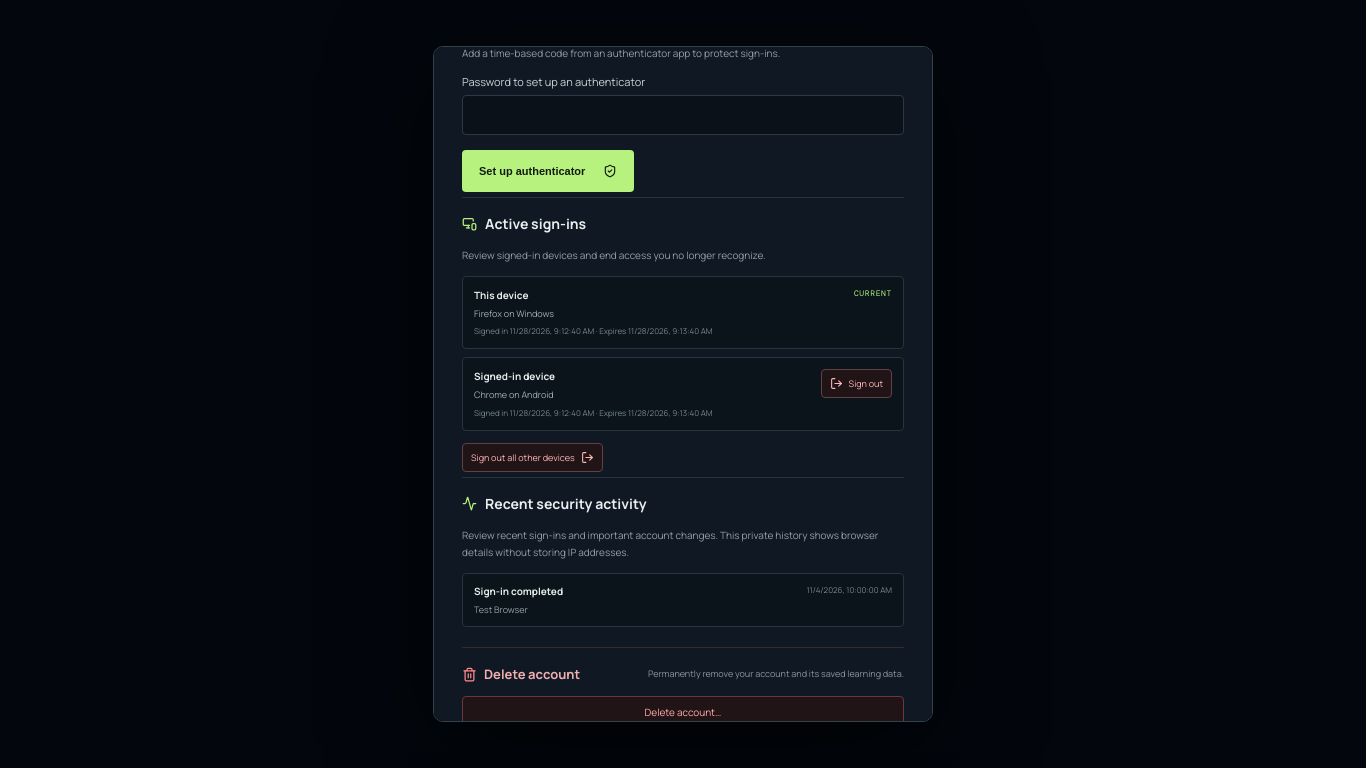
Test: account settings › lists signed-in devices and lets the learner end a different session
(page scrolled)
Expected: the text "Chrome on Android" is shown, [474,388,554,401]
Expected: the text "This device" is shown, [474,288,528,302]
Click the button "Sign out" at [856, 384], box [821,369,892,398]
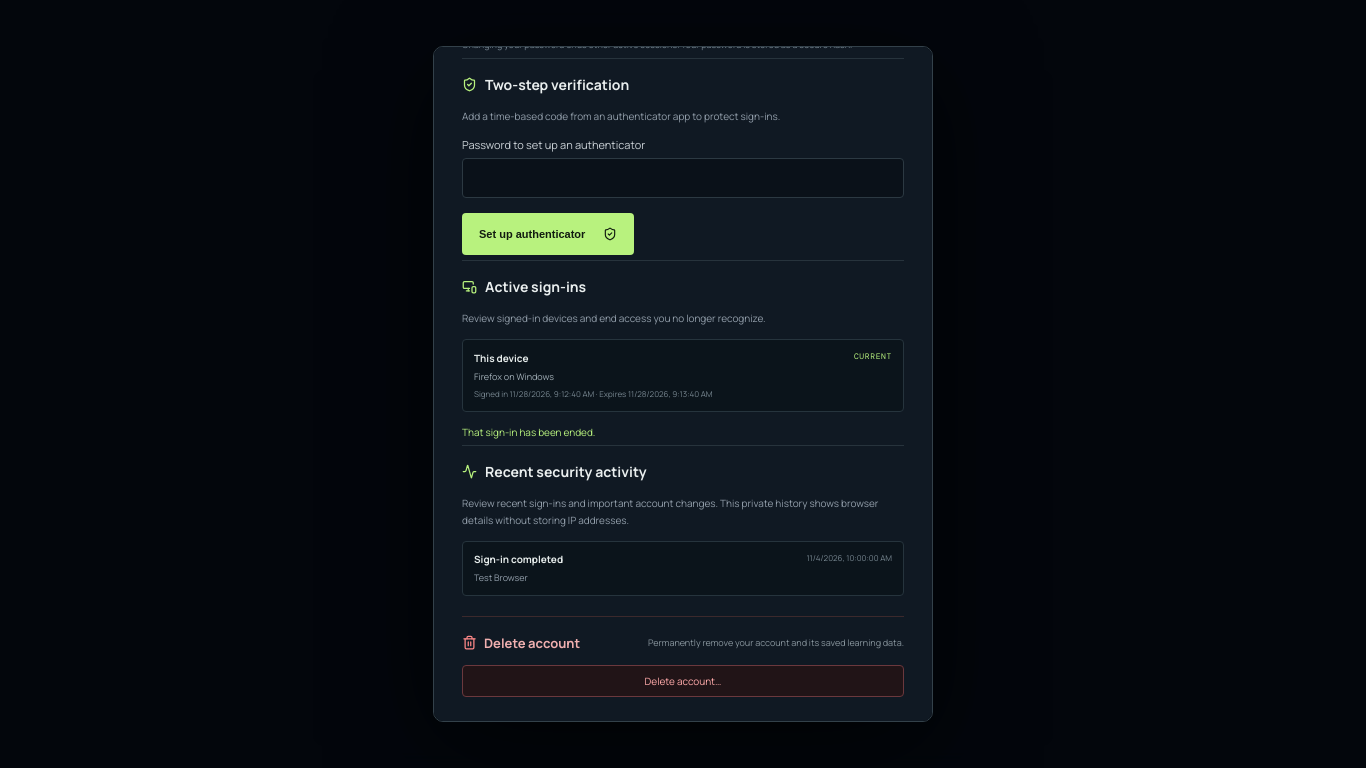
Now the message reads "That sign-in has been ended.", box [462,425,595,439]
Now the text "Chrome on Android" is gone
